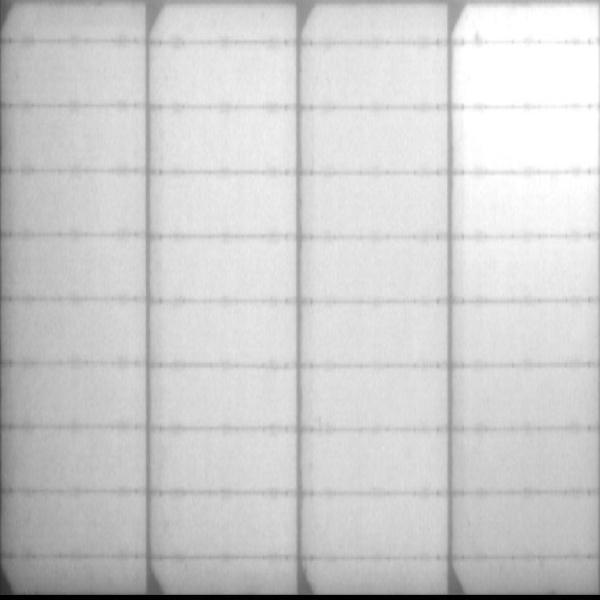hot_spot: (467, 48, 595, 101), (472, 118, 595, 158)
